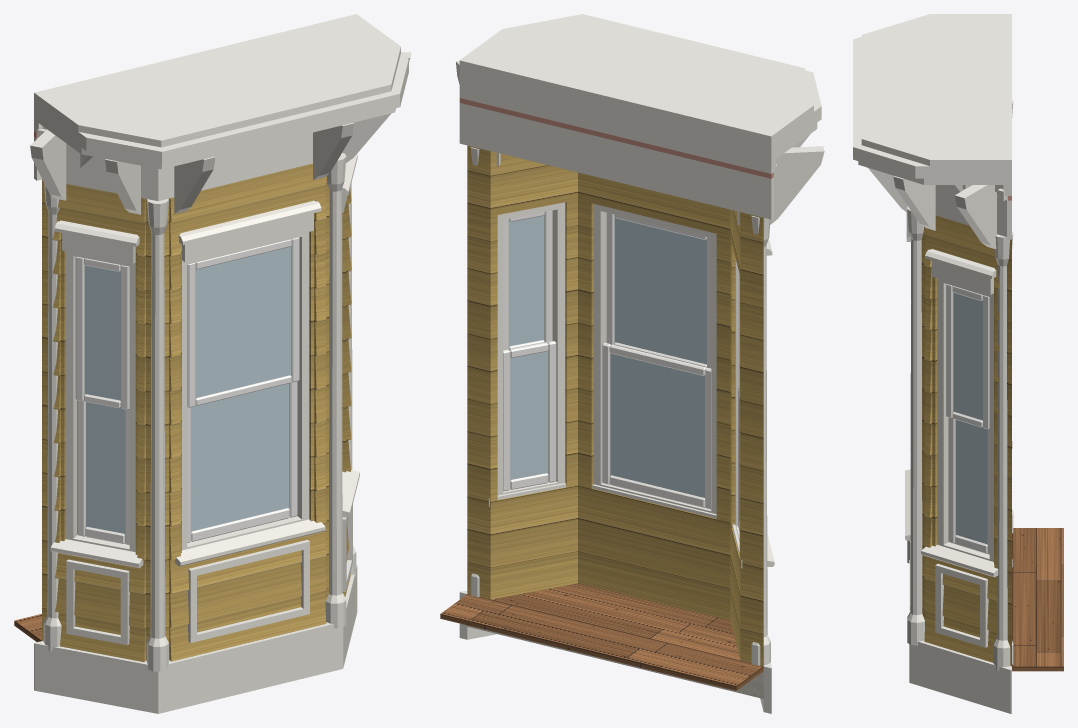
The model's file is bay_u_a.glb.
3 views of the same model, side by side, from view 1: azimuth 30°, elevation 25°; view 2: azimuth 150°, elevation 25°; view 3: azimuth 270°, elevation 25° (orthographic). The views are drawn at different scales.
Visible parts, largest first — view 1: bay_u_a_trim, bay_u_a_siding_a, bay_u_a_glass, bay_u_a_sash, bay_u_a_frame; view 2: bay_u_a_siding_a, bay_u_a_trim, bay_u_a_glass, bay_u_a_floor, bay_u_a_frame, bay_u_a_sash, bay_u_a_acc_a, bay_u_a_plaster; view 3: bay_u_a_trim, bay_u_a_siding_a, bay_u_a_floor, bay_u_a_glass, bay_u_a_frame, bay_u_a_sash.
Part boxes in pixels (<box>): bay_u_a_trim: <box>30,14,411,713</box>; bay_u_a_siding_a: <box>42,152,351,661</box>; bay_u_a_glass: <box>84,246,290,533</box>; bay_u_a_sash: <box>75,237,299,545</box>; bay_u_a_frame: <box>65,213,342,551</box>; bay_u_a_siding_a: <box>467,145,763,666</box>; bay_u_a_trim: <box>455,14,824,713</box>; bay_u_a_glass: <box>509,215,706,497</box>; bay_u_a_floor: <box>440,583,763,690</box>; bay_u_a_frame: <box>497,202,739,540</box>; bay_u_a_sash: <box>503,210,739,530</box>; bay_u_a_acc_a: <box>459,98,773,178</box>; bay_u_a_plaster: <box>467,625,763,698</box>; bay_u_a_trim: <box>853,14,1013,713</box>; bay_u_a_siding_a: <box>921,215,1011,666</box>; bay_u_a_floor: <box>1012,528,1063,671</box>; bay_u_a_glass: <box>953,292,987,544</box>; bay_u_a_frame: <box>937,278,993,561</box>; bay_u_a_sash: <box>946,283,989,554</box>.
Bounding box in the file's own units: 2.37 × 3.54 × 1.22.
8 materials, 3 textured.
